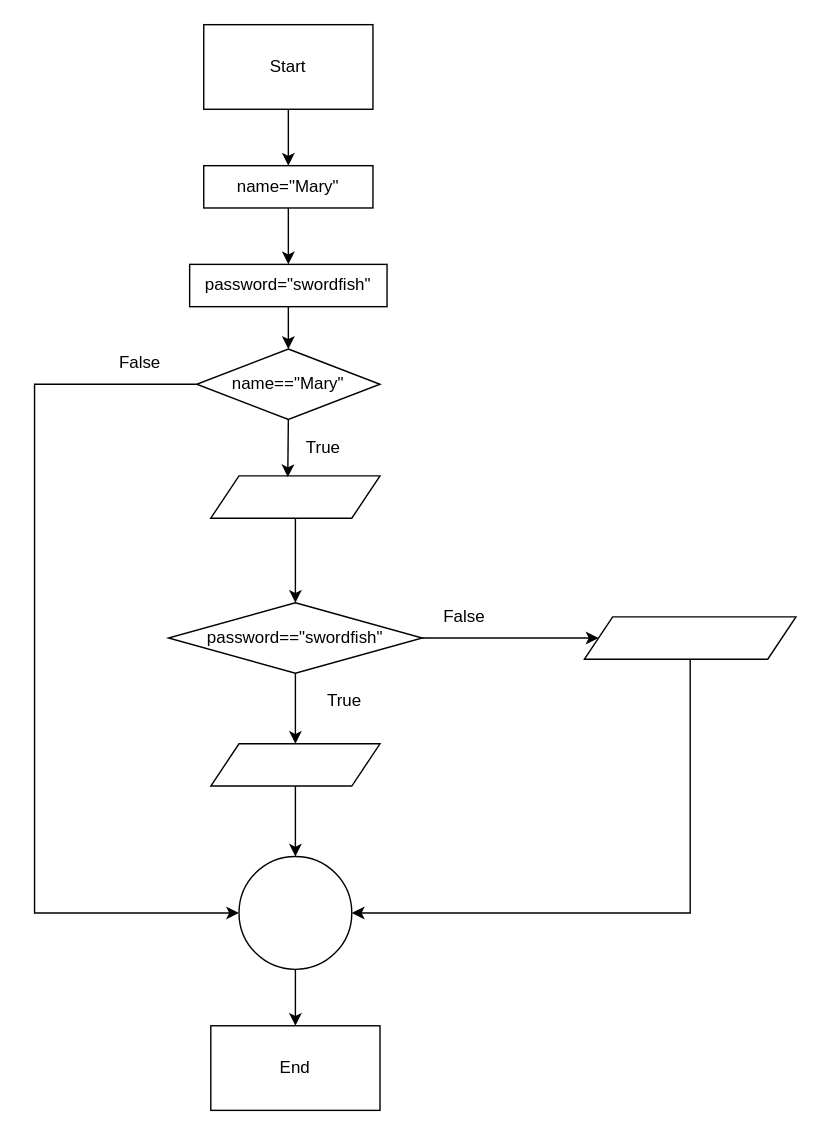
Some shapes in this 821 by 1135 pixel diagram are drawn without their labels. Here are the shapes that lost their labels. From the top down, the box of each, then its label:
(209, 474, 380, 518): "Hello, "+name
(583, 615, 796, 659): "Wrong password."
(209, 742, 380, 786): "Access granted"
